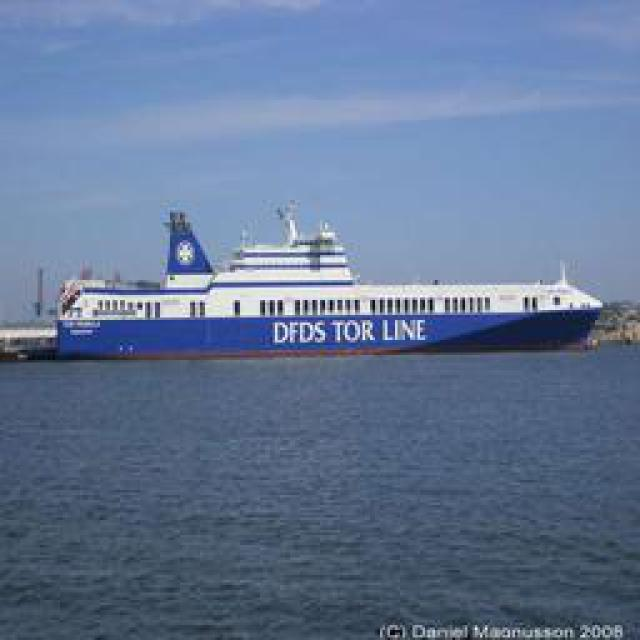Ship: (48, 202, 606, 360)
